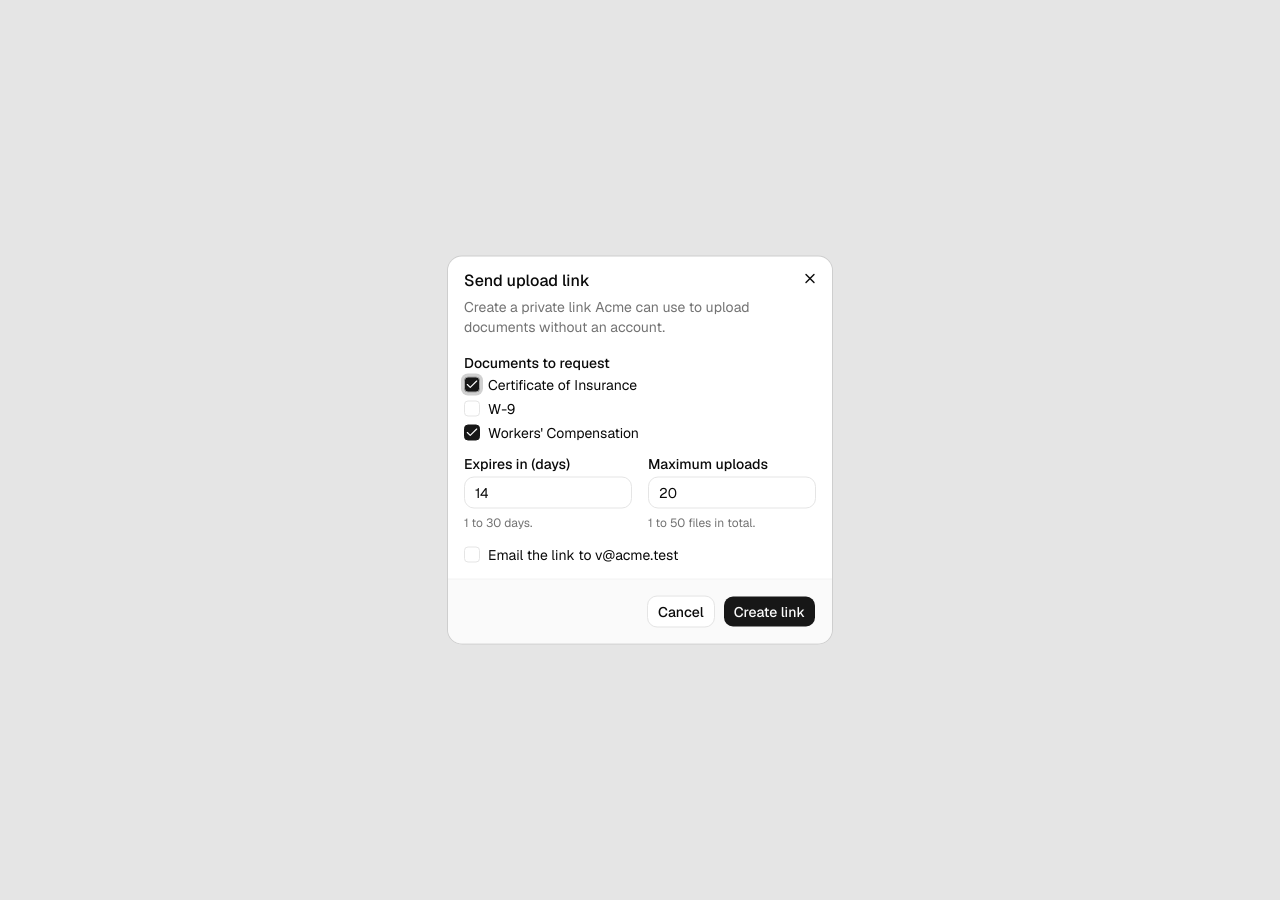
Test: SendUploadLinkDialog › shows server errors without losing the form
Click the button "Create link": (769, 612) [723,596,816,628]
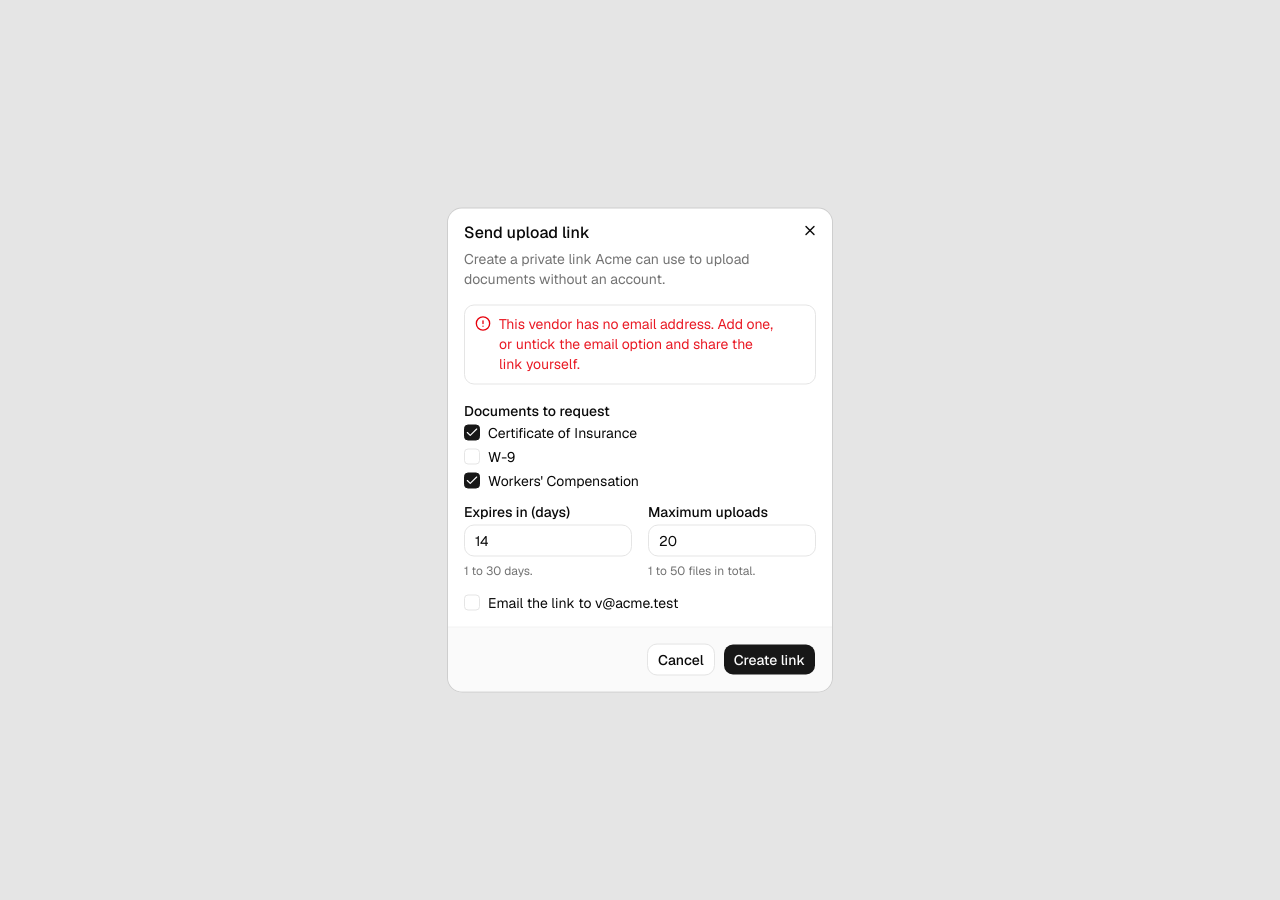
Check: the button "Create link" is enabled, box [723,644,816,676]
Check: the message shows "no email address", box [499,314,773,372]
